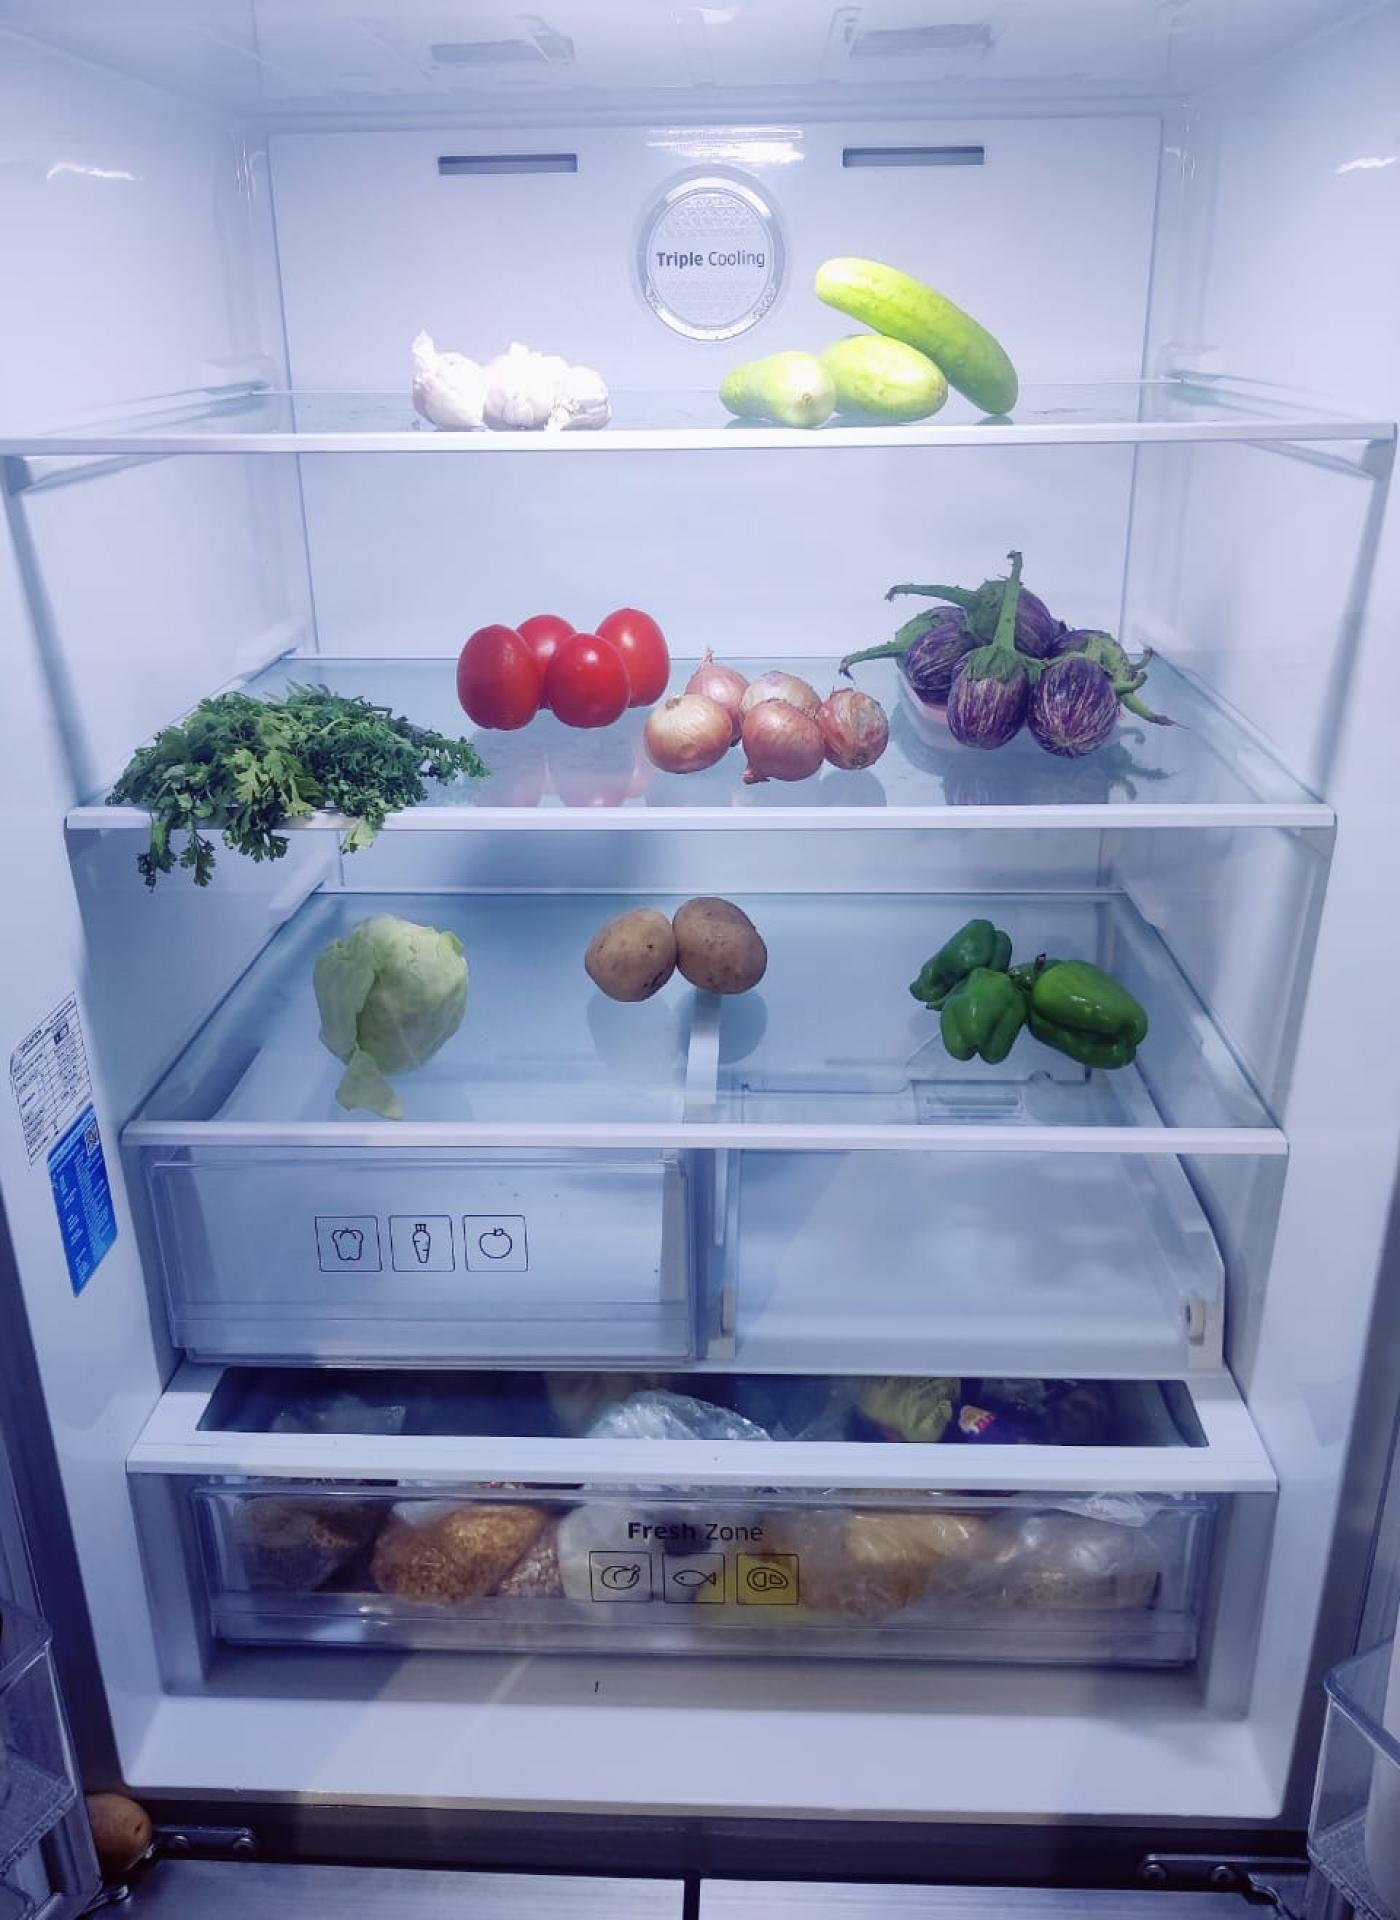brinjal: (905, 563, 1135, 754)
cabbage: (312, 909, 470, 1072)
capsicum: (909, 924, 1150, 1076)
coriander: (121, 683, 479, 842)
cucumber: (817, 253, 1029, 417)
onion: (644, 654, 887, 780)
potato: (589, 899, 777, 1012)
tomato: (455, 607, 669, 729)
